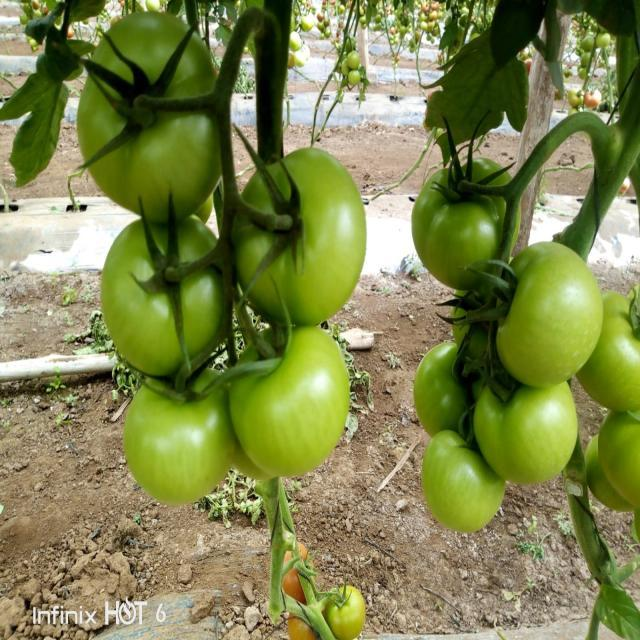Unripe Tomato: (70, 7, 230, 208), (230, 148, 370, 328), (108, 359, 248, 510), (100, 222, 232, 375), (225, 327, 354, 482), (490, 230, 598, 390), (412, 150, 525, 268), (474, 376, 580, 484), (417, 436, 508, 532), (584, 281, 640, 423), (412, 322, 474, 437), (594, 405, 638, 512)
